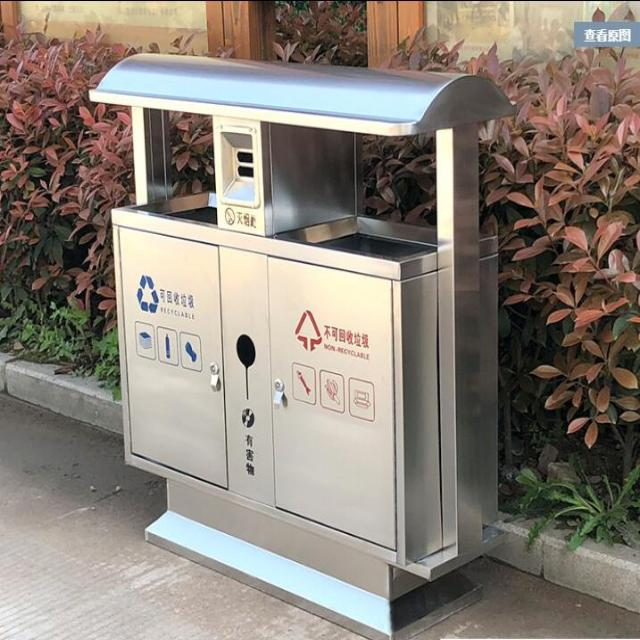ash bin: (86, 50, 516, 637)
